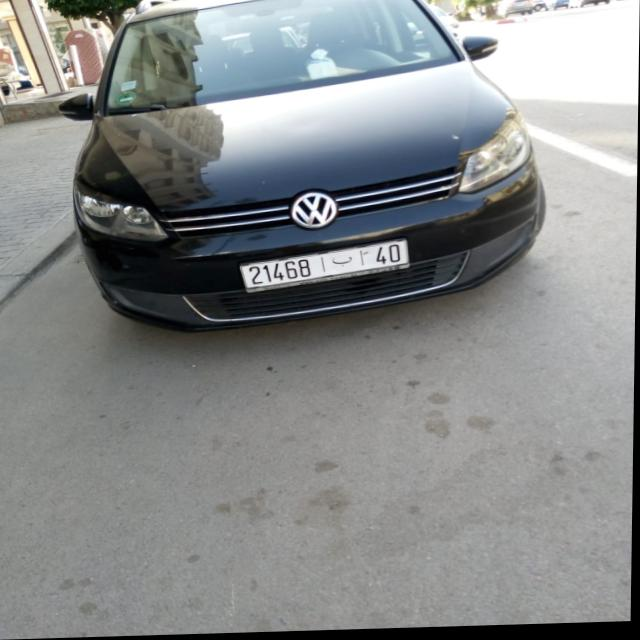License-Plate: (243, 243, 408, 290)
